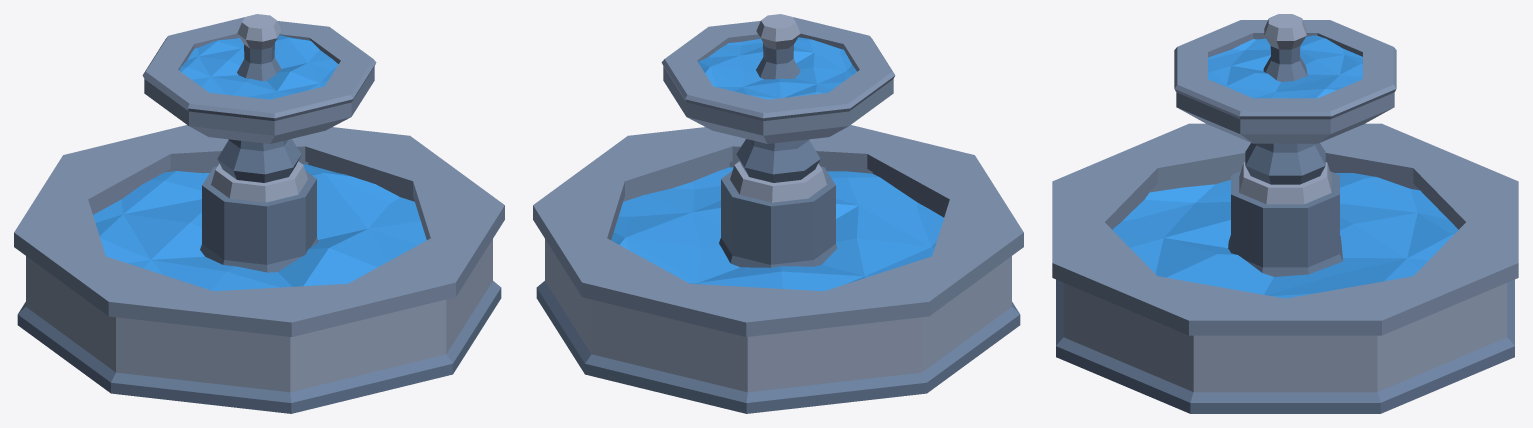
The model's file is Fountain.fbx.
3 views of the same model, side by side, from view 1: azimuth 30°, elevation 25°; view 2: azimuth 150°, elevation 25°; view 3: azimuth 270°, elevation 25° (orthographic).
Parts seen in each view (by area): view 1: Fountain; view 2: Fountain; view 3: Fountain.
Boxes of the visible parts, left/top/right/bottom form: Fountain: left=14, top=14, right=504, bottom=413; Fountain: left=533, top=14, right=1023, bottom=413; Fountain: left=1052, top=14, right=1518, bottom=413.
Bounding box in the file's own units: 3.4 × 3.4 × 2.38.
